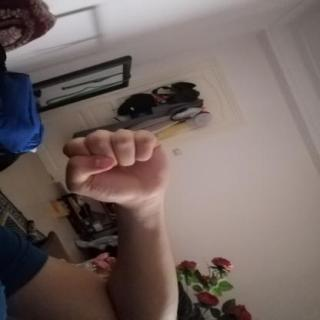SAD: (49, 120, 193, 216)
